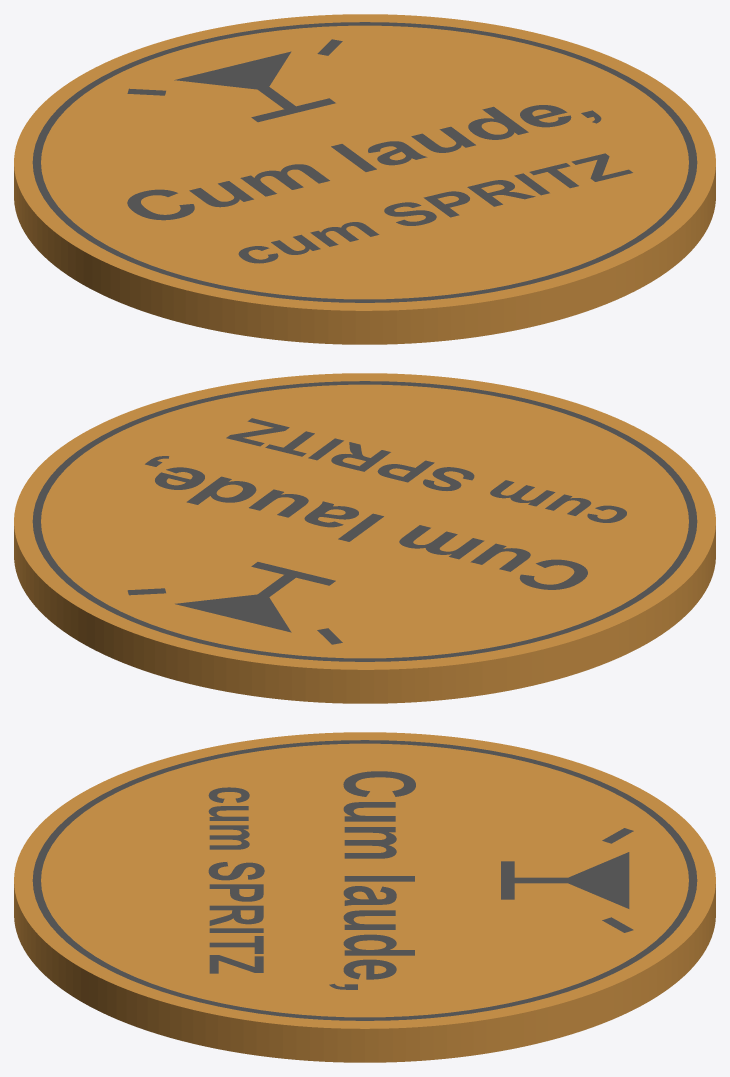
File: sottobicchiere-cum-laude-cum-spritz.glb
The picture shows the model from 3 angles, top to bottom: view 1: azimuth 30°, elevation 25°; view 2: azimuth 150°, elevation 25°; view 3: azimuth 270°, elevation 25°; orthographic projection.
Parts seen in each view (by area): view 1: coaster_base, coaster_ink; view 2: coaster_base, coaster_ink; view 3: coaster_base, coaster_ink.
Boxes of the visible parts, <box> form: coaster_base: <box>14,14,715,344</box>; coaster_ink: <box>32,22,697,302</box>; coaster_base: <box>14,373,715,703</box>; coaster_ink: <box>32,381,697,661</box>; coaster_base: <box>14,732,715,1062</box>; coaster_ink: <box>32,740,697,1020</box>.
Bounding box in the file's own units: 0.075 × 0.004 × 0.075.
